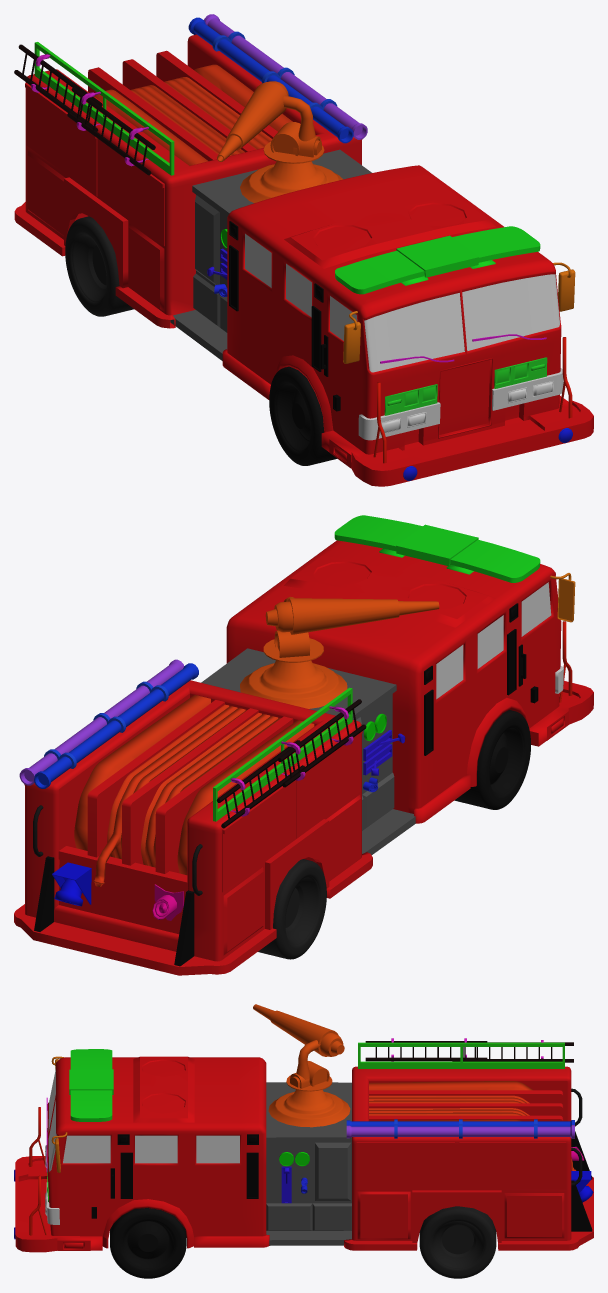
The picture shows the model from 3 angles, top to bottom: view 1: azimuth 30°, elevation 25°; view 2: azimuth 150°, elevation 25°; view 3: azimuth 270°, elevation 25°; orthographic projection. The views are drawn at different scales.
Visible parts, largest first — view 1: Cube, Cube.006, Cube.005, Cube.002, Cylinder.010, Cube.003, Cylinder.005, Cylinder.017, Cylinder.018, Cube.014, Cylinder.004, Cube.008 (+6 smaller); view 2: Cube.006, Cube, Cylinder.005, Cylinder.010, Cube.002, Cube.003, Cylinder.017, Cylinder.018, Cube.005, Cylinder.004, Cube.008, Cylinder.003 (+8 smaller); view 3: Cube, Cube.006, Cube.002, Cylinder.010, Cylinder.018, Cylinder.005, Cube.005, Cylinder.017, Cube.003, Cube.008, Cylinder.002, Cube.010 (+6 smaller).
Boxes of the visible parts, left/top/right/bottom form: Cube: left=222, top=165, right=593, bottom=486; Cube.006: left=14, top=34, right=362, bottom=328; Cube.005: left=245, top=233, right=559, bottom=372; Cube.002: left=170, top=149, right=371, bottom=360; Cylinder.010: left=217, top=81, right=343, bottom=202; Cube.003: left=335, top=226, right=540, bottom=294; Cylinder.005: left=95, top=64, right=292, bottom=165; Cylinder.017: left=269, top=366, right=337, bottom=465; Cylinder.018: left=65, top=216, right=133, bottom=316; Cube.014: left=358, top=368, right=563, bottom=440; Cylinder.004: left=14, top=44, right=155, bottom=175; Cube.008: left=34, top=42, right=174, bottom=175; Cube.006: left=14, top=680, right=372, bottom=975; Cube: left=226, top=540, right=593, bottom=823; Cylinder.005: left=74, top=695, right=314, bottom=886; Cylinder.010: left=240, top=596, right=439, bottom=708; Cube.002: left=201, top=648, right=415, bottom=855; Cube.003: left=334, top=515, right=540, bottom=582; Cylinder.017: left=454, top=710, right=531, bottom=809; Cylinder.018: left=258, top=859, right=326, bottom=959; Cube.005: left=436, top=582, right=551, bottom=699; Cylinder.004: left=216, top=699, right=366, bottom=828; Cube.008: left=213, top=687, right=352, bottom=821; Cylinder.003: left=34, top=663, right=198, bottom=788; Cube: left=15, top=1056, right=269, bottom=1252; Cube.006: left=344, top=1066, right=593, bottom=1250; Cube.002: left=266, top=1082, right=351, bottom=1245; Cylinder.010: left=253, top=1004, right=350, bottom=1127; Cylinder.018: left=419, top=1206, right=496, bottom=1278; Cylinder.005: left=369, top=1081, right=576, bottom=1170; Cube.005: left=48, top=1069, right=239, bottom=1171; Cylinder.017: left=110, top=1208, right=186, bottom=1278; Cube.003: left=69, top=1049, right=113, bottom=1121; Cube.008: left=358, top=1042, right=564, bottom=1068; Cylinder.002: left=346, top=1125, right=574, bottom=1138; Cube.010: left=91, top=1134, right=258, bottom=1218.
Size of the model in its own units: 373 by 420 by 1076.
